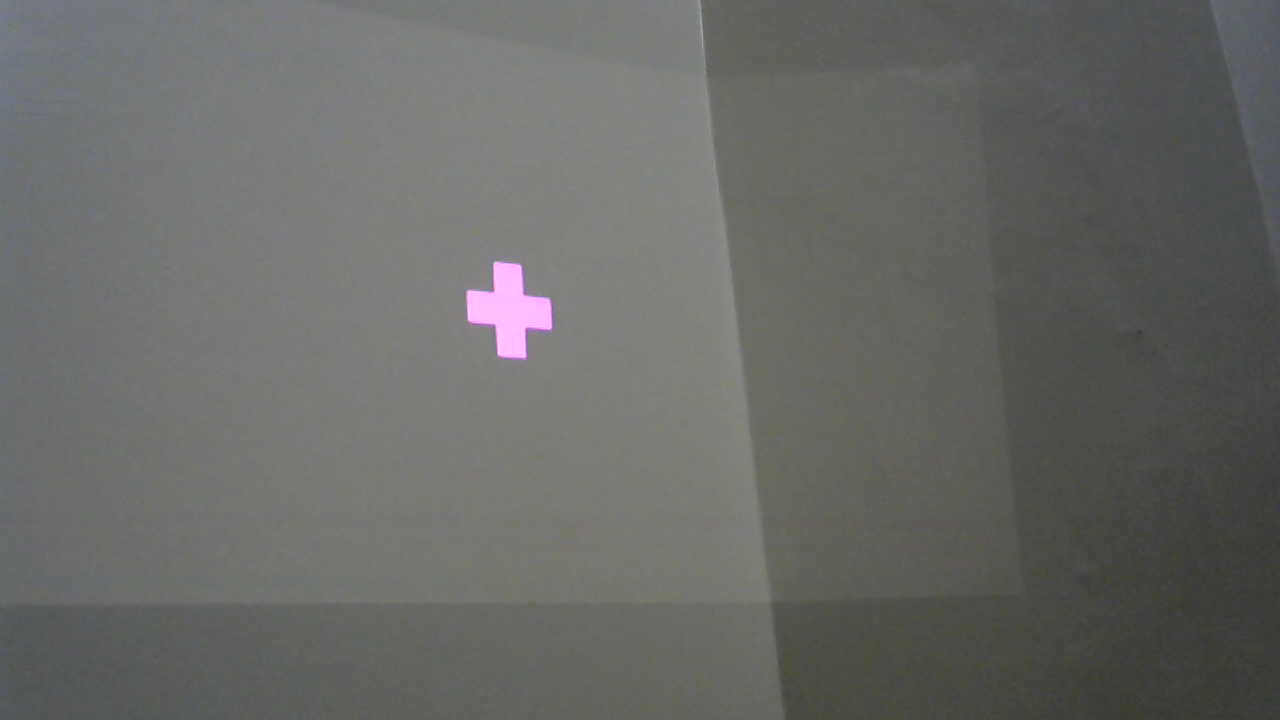calibration_symbol: (462, 257, 555, 360)
